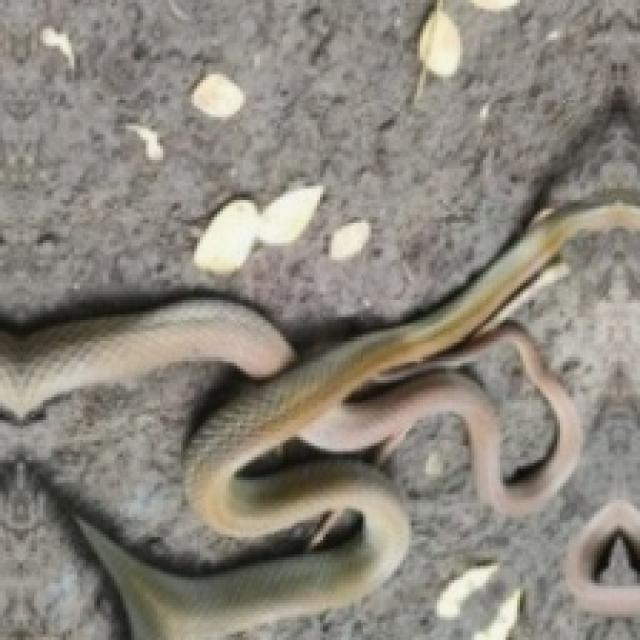reddish rat snake: (0, 203, 637, 637)
